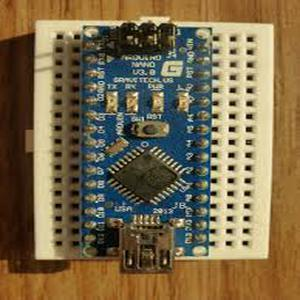duino: (80, 17, 216, 278)
